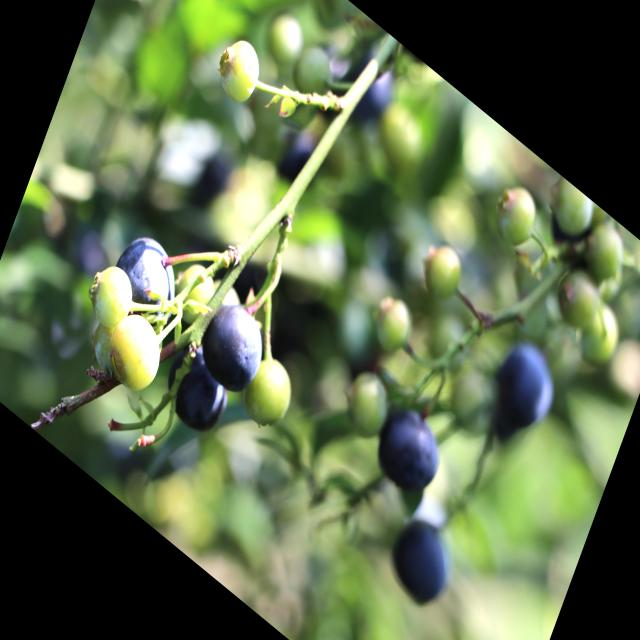blueberry: (482, 324, 567, 449), (191, 284, 276, 407), (105, 216, 190, 338), (368, 389, 452, 507), (380, 503, 460, 620), (156, 337, 236, 448)
blueberry-unripe: (100, 302, 170, 408), (334, 354, 399, 451), (207, 22, 272, 115), (238, 344, 300, 438), (84, 254, 138, 338), (490, 178, 542, 255), (552, 261, 606, 334), (367, 285, 417, 361), (418, 233, 465, 306)
